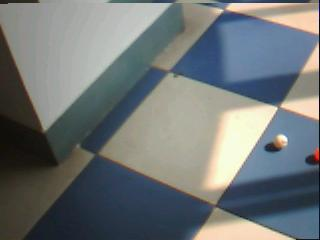oball: (315, 148, 320, 163)
